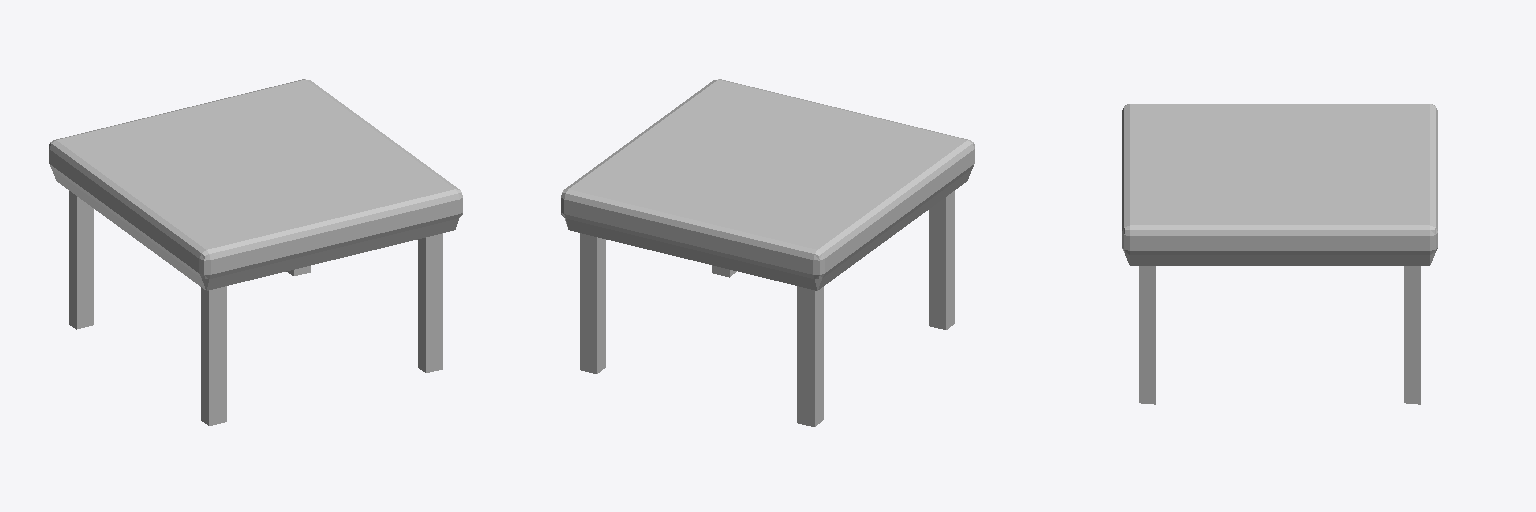
File: table.obj
The picture shows the model from 3 angles: view 1: azimuth 30°, elevation 25°; view 2: azimuth 150°, elevation 25°; view 3: azimuth 270°, elevation 25°; orthographic projection.
Parts seen in each view (by area): view 1: table1:polySurface1; view 2: table1:polySurface1; view 3: table1:polySurface1.
Part boxes in pixels (x1,y1,x2,y2): table1:polySurface1: (49, 79, 462, 425); table1:polySurface1: (561, 79, 974, 426); table1:polySurface1: (1122, 104, 1437, 404).
Bounding box in the file's own units: 1.76 × 1.17 × 1.83.